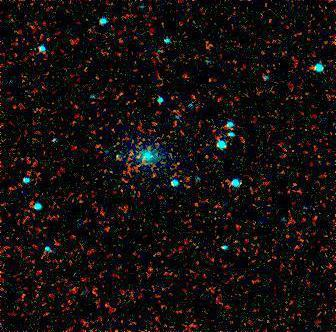star: (195, 68, 225, 98)
